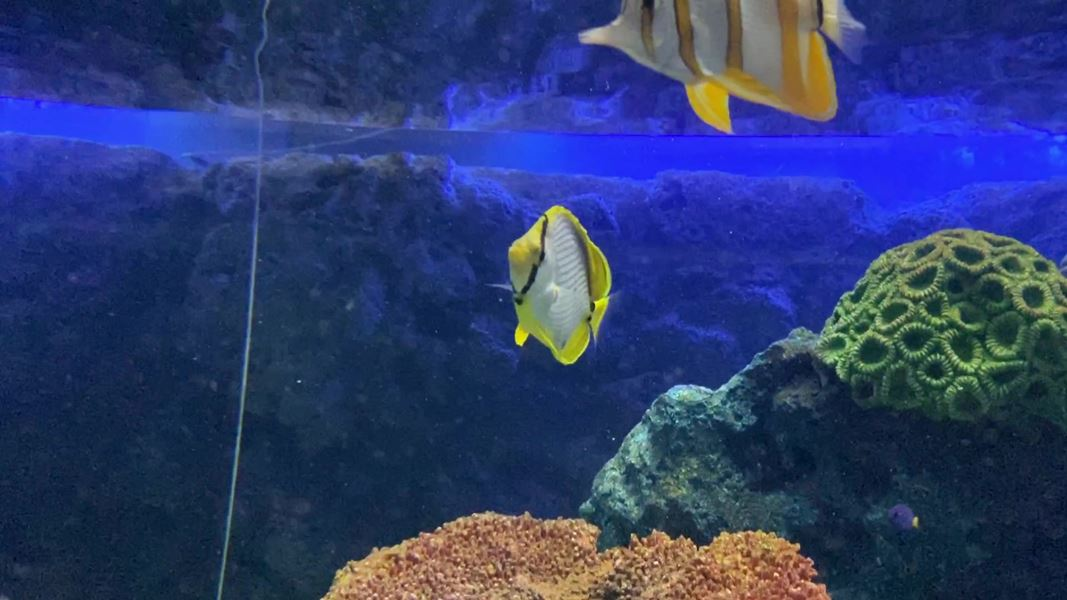Black-backed butterflyfish: (476, 196, 642, 377)
